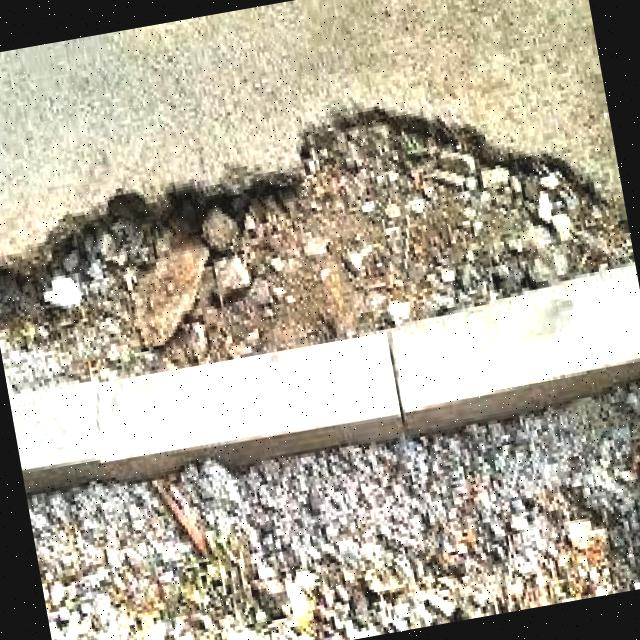curb: (19, 316, 409, 513), (358, 273, 640, 457)
